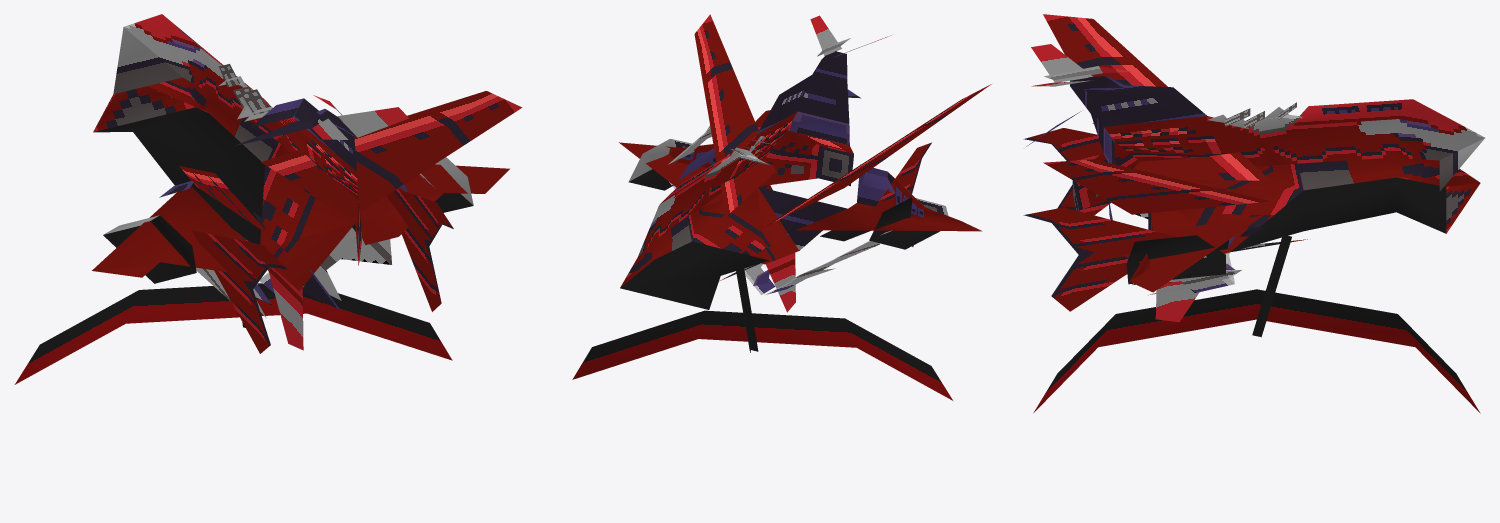
File: ps2_save-icons_superrobotwarsoggaidenscenario.glb
3 renders of one model, left to right at view 1: azimuth 30°, elevation 25°; view 2: azimuth 150°, elevation 25°; view 3: azimuth 270°, elevation 25°, orthographic. The views are drawn at different scales.
Parts seen in each view (by area): view 1: scenario.ico; view 2: scenario.ico; view 3: scenario.ico.
Boxes of the visible parts, left/top/right/bottom form: scenario.ico: left=14, top=14, right=522, bottom=384; scenario.ico: left=572, top=14, right=991, bottom=400; scenario.ico: left=1023, top=14, right=1484, bottom=413.
Bounding box in the file's own units: 4.8 × 4.1 × 4.91.
1 material, 1 textured.
